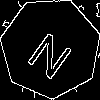N: (25, 23, 81, 82)
